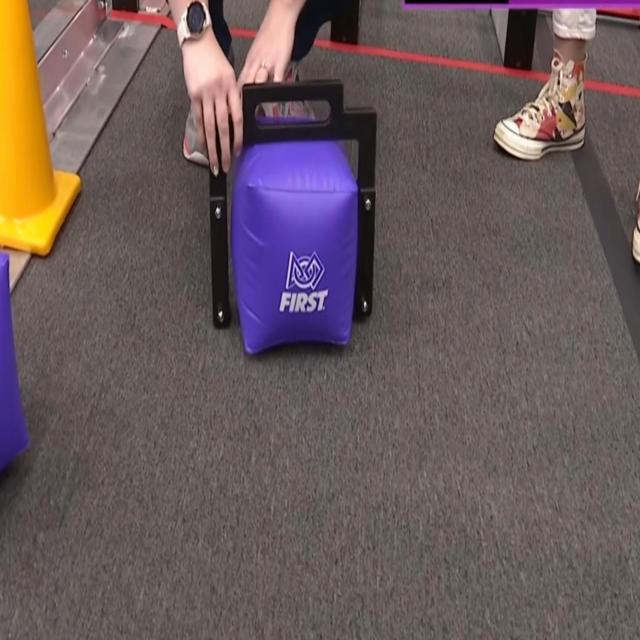frc_cone: (0, 0, 84, 257)
frc_cube: (232, 118, 356, 360), (0, 248, 33, 482)
